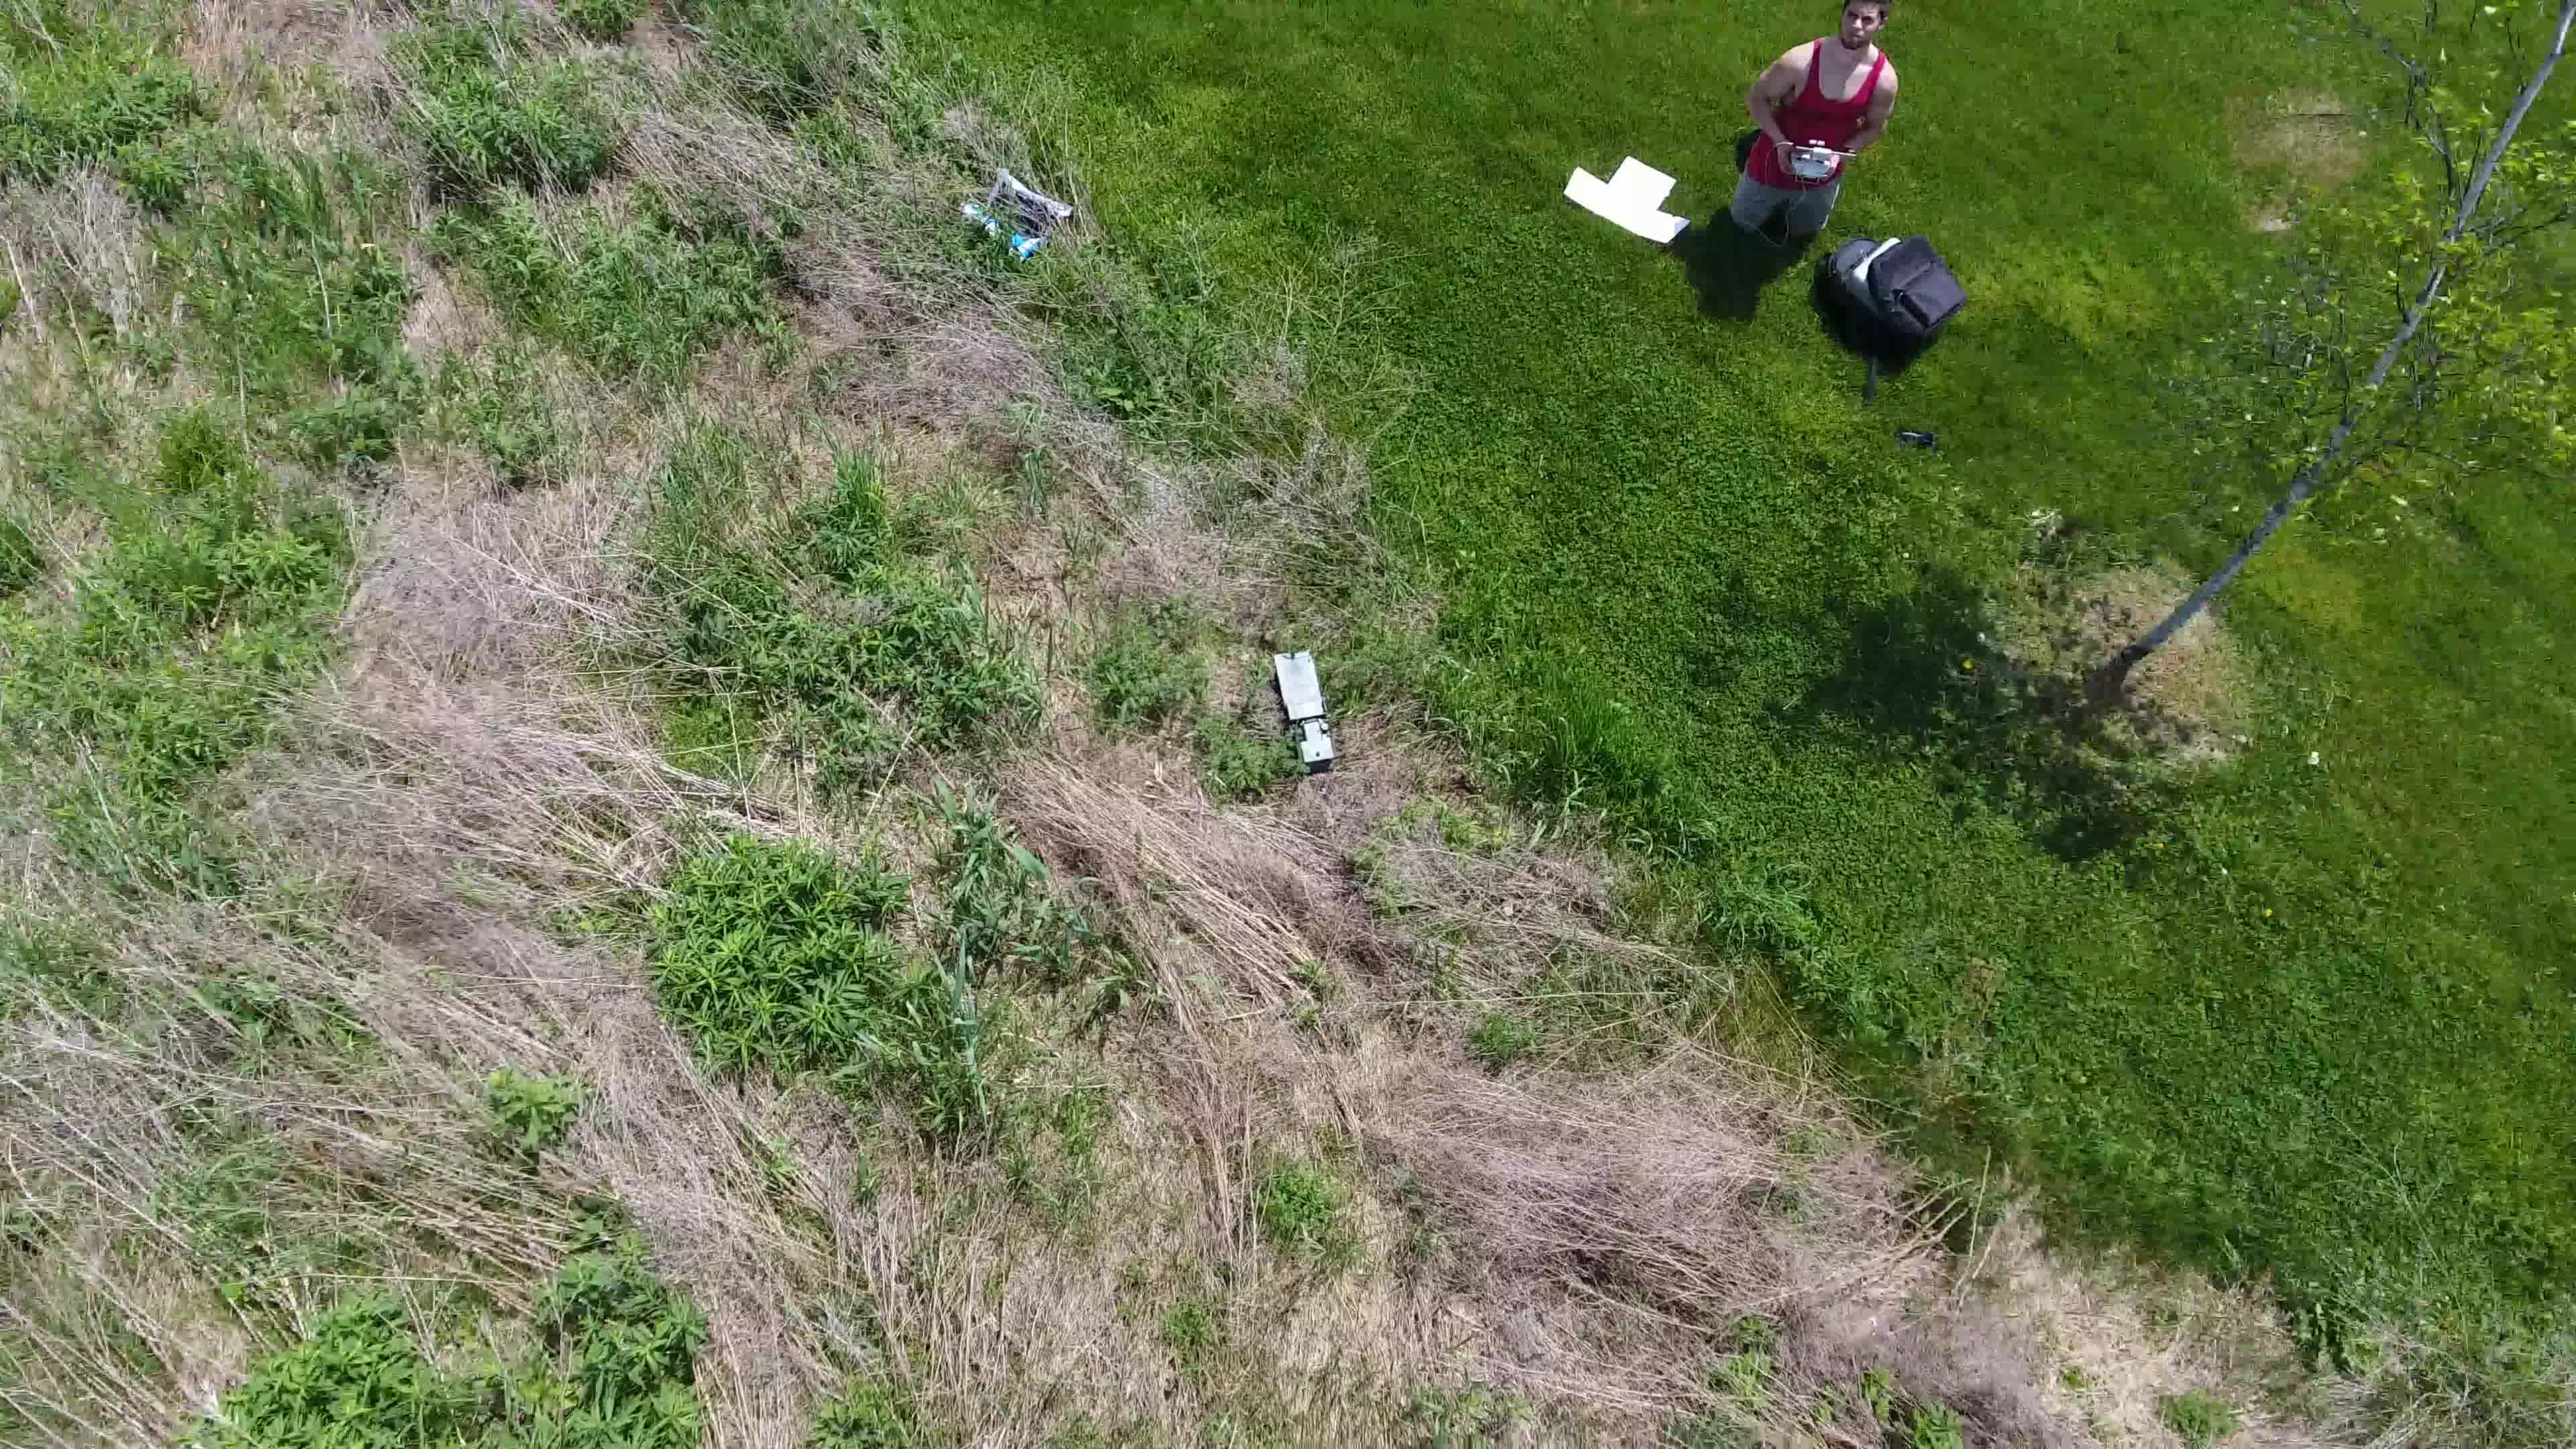transporter9: (1272, 651, 1341, 766)
